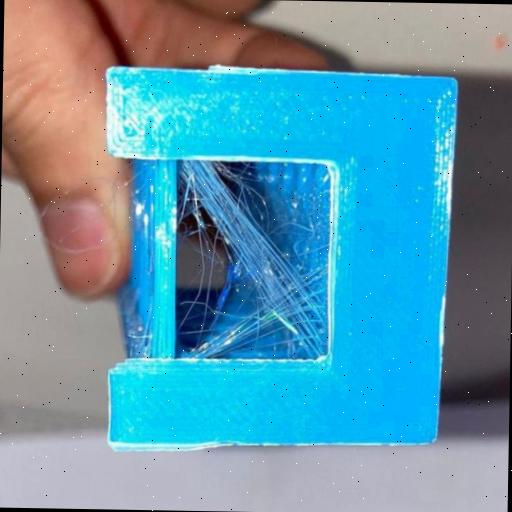stringing: (183, 162, 328, 354), (196, 267, 324, 358)
